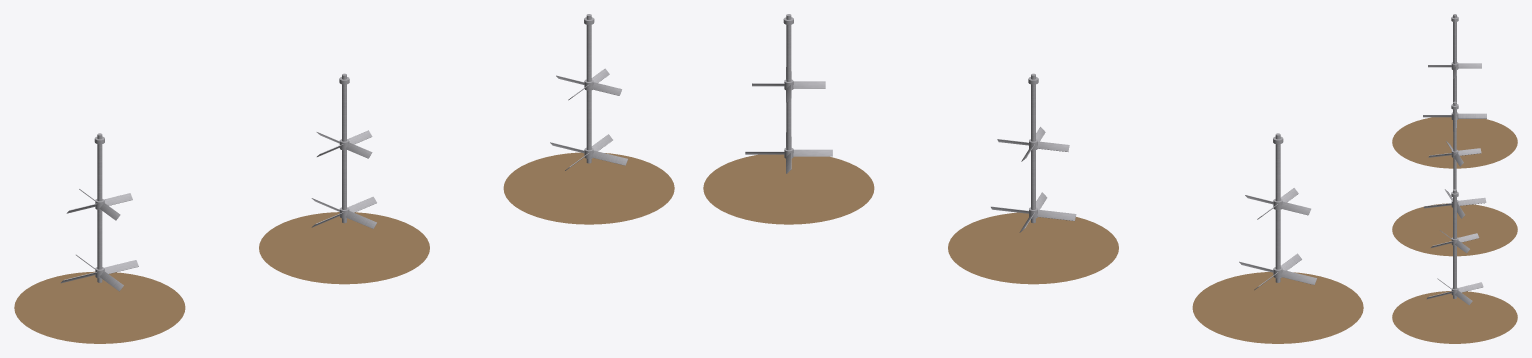
File: empresa_brasil_tanques.glb
3 renders of one model, left to right at view 1: azimuth 30°, elevation 25°; view 2: azimuth 150°, elevation 25°; view 3: azimuth 270°, elevation 25°, orthographic. The views are drawn at different scales.
Visible parts, largest first — view 1: EB_Tanque_3_Liquido.001, EB_Tanque_1_Liquido.001, EB_Tanque_2_Liquido.001, EB_Tanque_3_Agitador.001, EB_Tanque_1_Agitador.001, EB_Tanque_2_Agitador.001; view 2: EB_Tanque_3_Liquido.001, EB_Tanque_1_Liquido.001, EB_Tanque_2_Liquido.001, EB_Tanque_1_Agitador.001, EB_Tanque_2_Agitador.001, EB_Tanque_3_Agitador.001; view 3: EB_Tanque_3_Liquido.001, EB_Tanque_1_Liquido.001, EB_Tanque_2_Liquido.001, EB_Tanque_3_Agitador.001, EB_Tanque_2_Agitador.001, EB_Tanque_1_Agitador.001.
Part boxes in pixels (bbox=[...]): EB_Tanque_3_Liquido.001: bbox=[503, 152, 674, 224]; EB_Tanque_1_Liquido.001: bbox=[14, 271, 185, 343]; EB_Tanque_2_Liquido.001: bbox=[259, 212, 429, 284]; EB_Tanque_3_Agitador.001: bbox=[550, 14, 627, 170]; EB_Tanque_1_Agitador.001: bbox=[61, 133, 138, 291]; EB_Tanque_2_Agitador.001: bbox=[311, 73, 376, 228]; EB_Tanque_3_Liquido.001: bbox=[703, 154, 874, 224]; EB_Tanque_1_Liquido.001: bbox=[1192, 272, 1363, 343]; EB_Tanque_2_Liquido.001: bbox=[948, 212, 1118, 284]; EB_Tanque_1_Agitador.001: bbox=[1239, 133, 1316, 290]; EB_Tanque_2_Agitador.001: bbox=[991, 73, 1076, 232]; EB_Tanque_3_Agitador.001: bbox=[745, 14, 832, 173]; EB_Tanque_3_Liquido.001: bbox=[1392, 291, 1517, 343]; EB_Tanque_1_Liquido.001: bbox=[1392, 117, 1517, 168]; EB_Tanque_2_Liquido.001: bbox=[1392, 203, 1517, 256]; EB_Tanque_3_Agitador.001: bbox=[1426, 189, 1483, 305]; EB_Tanque_2_Agitador.001: bbox=[1424, 101, 1486, 218]; EB_Tanque_1_Agitador.001: bbox=[1423, 14, 1486, 131].
Size of the model in its own units: 8.6 by 2.24 by 2.
Materials: 2 (1 with a texture image).
